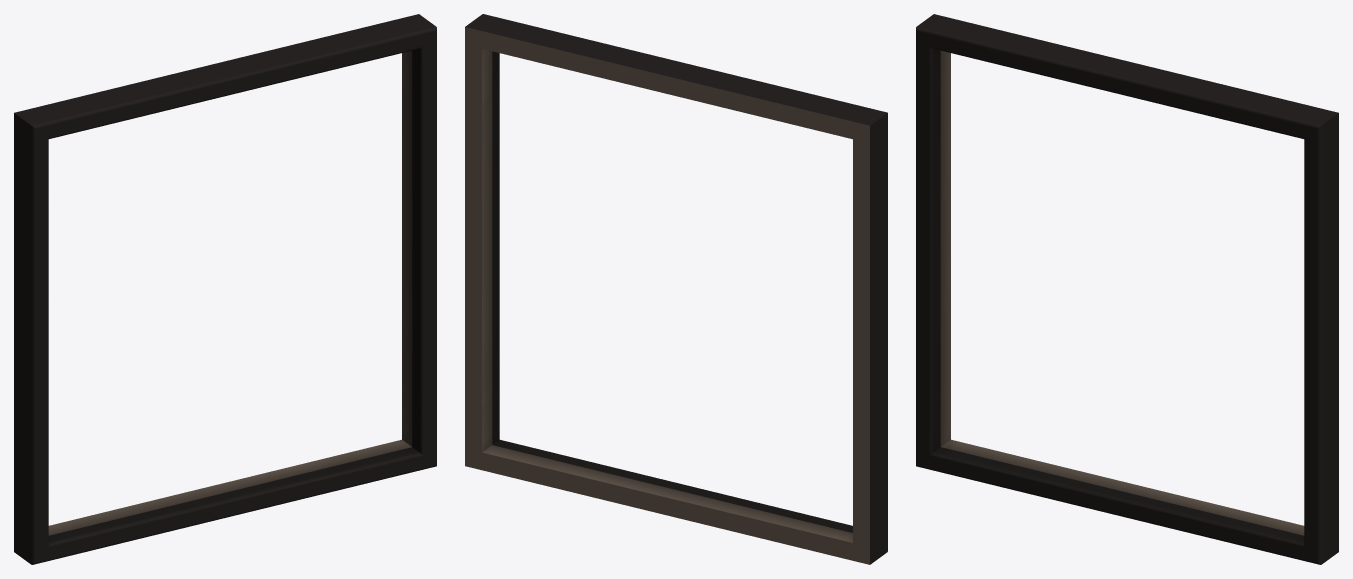
File: 12-avinonskie-devitsy.glb
The picture shows the model from 3 angles, left to right: view 1: azimuth 30°, elevation 25°; view 2: azimuth 150°, elevation 25°; view 3: azimuth 330°, elevation 25°; orthographic projection.
Visible parts, largest first — view 1: Frame; view 2: Frame; view 3: Frame.
Part boxes in pixels (x1,y1,x2,y2): Frame: (14,14,436,564); Frame: (465,14,887,564); Frame: (916,14,1338,564).
Size of the model in its own units: 1.03 by 1.07 by 0.084.
